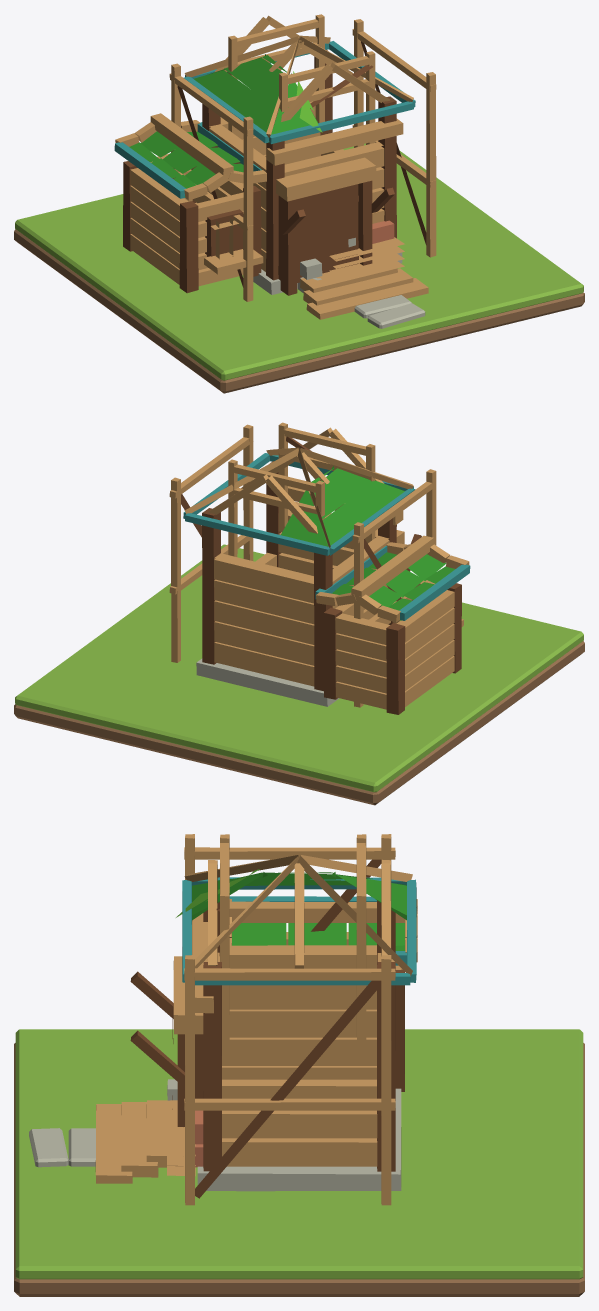
Rendered from town_hall_l03_construction_LOD2.glb.
3 renders of one model, top to bottom at view 1: azimuth 30°, elevation 25°; view 2: azimuth 150°, elevation 25°; view 3: azimuth 270°, elevation 25°, orthographic. The views are drawn at different scales.
Visible parts, largest first — view 1: town_hall_l03_construction_foundation.001, town_hall_l03_construction_grass_tile.001, town_hall_l03_construction_earth_tile.001, town_hall_l03_construction_path_stone.005, town_hall_l03_construction_path_stone.004; view 2: town_hall_l03_construction_foundation.001, town_hall_l03_construction_grass_tile.001, town_hall_l03_construction_earth_tile.001; view 3: town_hall_l03_construction_grass_tile.001, town_hall_l03_construction_foundation.001, town_hall_l03_construction_earth_tile.001, town_hall_l03_construction_path_stone.005, town_hall_l03_construction_path_stone.004.
Part boxes in pixels (<box>): town_hall_l03_construction_foundation.001: <box>114,14,436,319</box>; town_hall_l03_construction_grass_tile.001: <box>15,143,583,380</box>; town_hall_l03_construction_earth_tile.001: <box>14,229,584,393</box>; town_hall_l03_construction_path_stone.005: <box>367,303,425,328</box>; town_hall_l03_construction_path_stone.004: <box>354,295,411,318</box>; town_hall_l03_construction_foundation.001: <box>169,422,470,714</box>; town_hall_l03_construction_grass_tile.001: <box>15,544,583,792</box>; town_hall_l03_construction_earth_tile.001: <box>14,641,584,805</box>; town_hall_l03_construction_grass_tile.001: <box>15,1029,583,1279</box>; town_hall_l03_construction_foundation.001: <box>95,834,417,1205</box>; town_hall_l03_construction_earth_tile.001: <box>14,1043,584,1296</box>; town_hall_l03_construction_path_stone.005: <box>29,1128,68,1167</box>; town_hall_l03_construction_path_stone.004: <box>68,1128,95,1166</box>.
Bounding box in the file's own units: 3.6 × 2.25 × 3.6.
